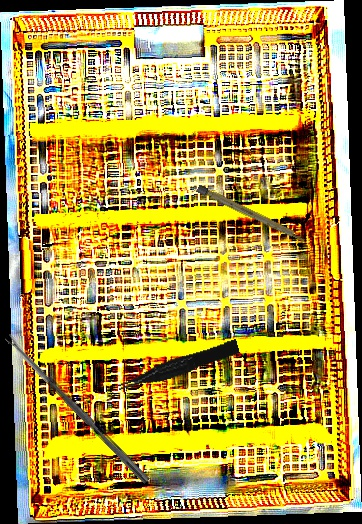Scalpel Handle: (196, 184, 307, 244)
Surgical Spoon: (4, 333, 151, 484)
Tissue Forceps: (114, 339, 242, 393)
